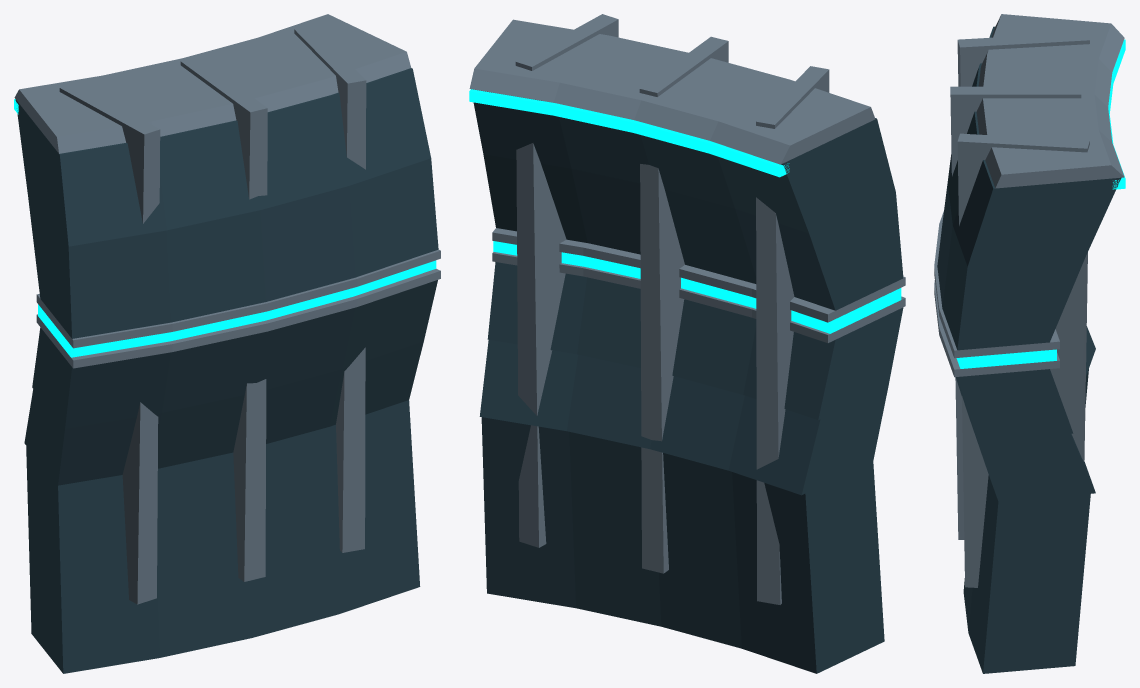
File: stadium_segment.glb
The picture shows the model from 3 angles, left to right: view 1: azimuth 30°, elevation 25°; view 2: azimuth 150°, elevation 25°; view 3: azimuth 270°, elevation 25°; orthographic projection. The views are drawn at different scales.
Parts seen in each view (by area): view 1: Stadium_Segment; view 2: Stadium_Segment; view 3: Stadium_Segment.
Part boxes in pixels (x1,y1,x2,y2): Stadium_Segment: (14,14,440,673); Stadium_Segment: (469,14,905,673); Stadium_Segment: (934,14,1125,673).
Bounding box in the file's own units: 38.12 × 52.8 × 18.28.
